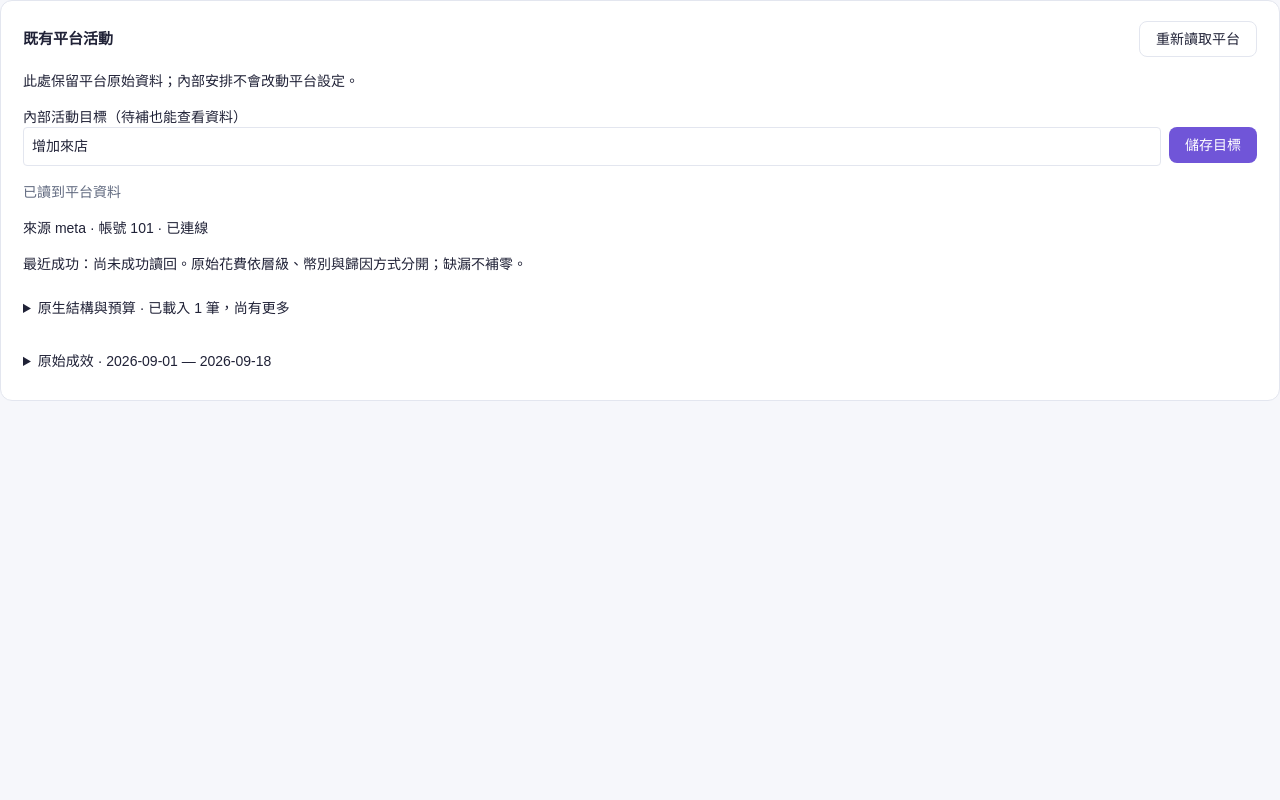
Test: 既有活動來源與原始資料 › 結構分頁不丟棄原有結構或另一維度的觀測
Click the heading "原生結構與預算 · 已載入 1 筆，尚有更多".
click(164, 308)  # box [38, 300, 290, 316]
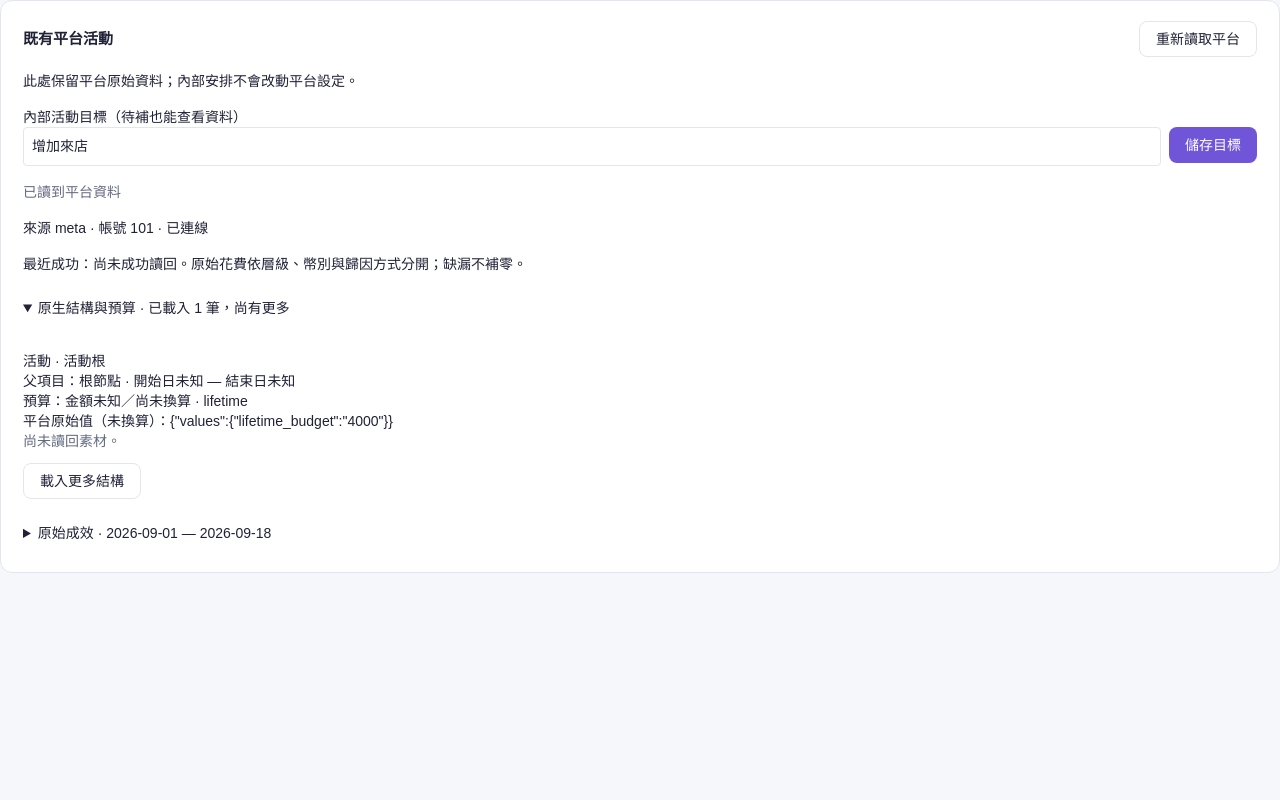
Click the button "載入更多結構".
click(82, 481)  # box [23, 463, 141, 499]
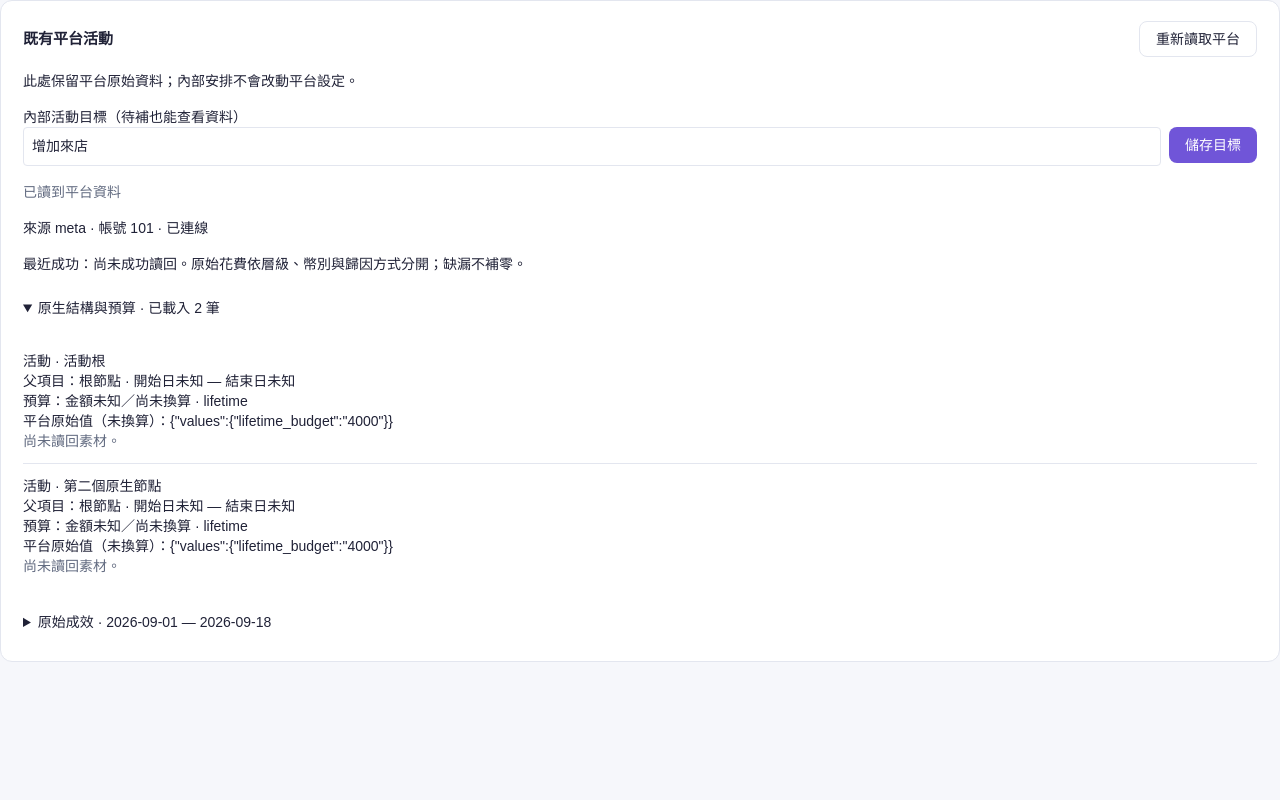
Expected: the text "活動 · 活動根" is shown, [23, 353, 106, 369]
Expected: the text "活動 · 第二個原生節點" is shown, [23, 478, 162, 494]
